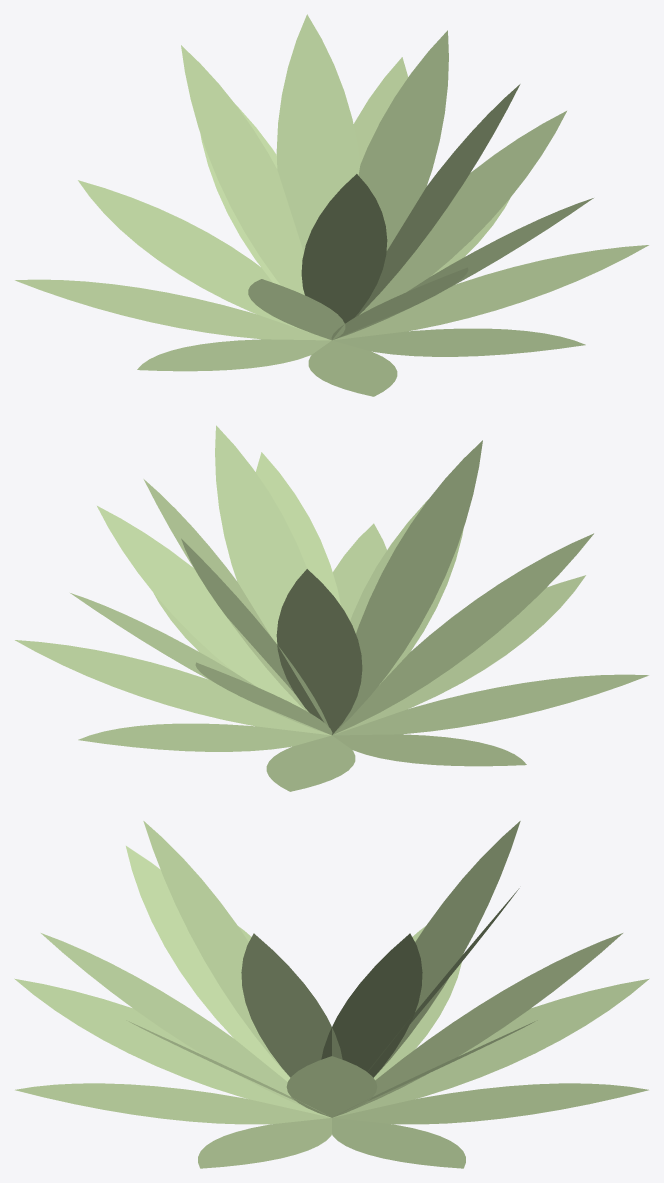
Rendered from cespuglio3.fbx.
The picture shows the model from 3 angles, top to bottom: view 1: azimuth 30°, elevation 25°; view 2: azimuth 150°, elevation 25°; view 3: azimuth 270°, elevation 25°; orthographic projection. The views are drawn at different scales.
Visible parts, largest first — view 1: Plant_Brush_04; view 2: Plant_Brush_04; view 3: Plant_Brush_04.
Part boxes in pixels (left/top/right/bottom): Plant_Brush_04: left=15, top=14, right=648, bottom=396; Plant_Brush_04: left=15, top=425, right=648, bottom=791; Plant_Brush_04: left=14, top=821, right=649, bottom=1168.
Size of the model in its own units: 72.56 by 33.3 by 72.56.
